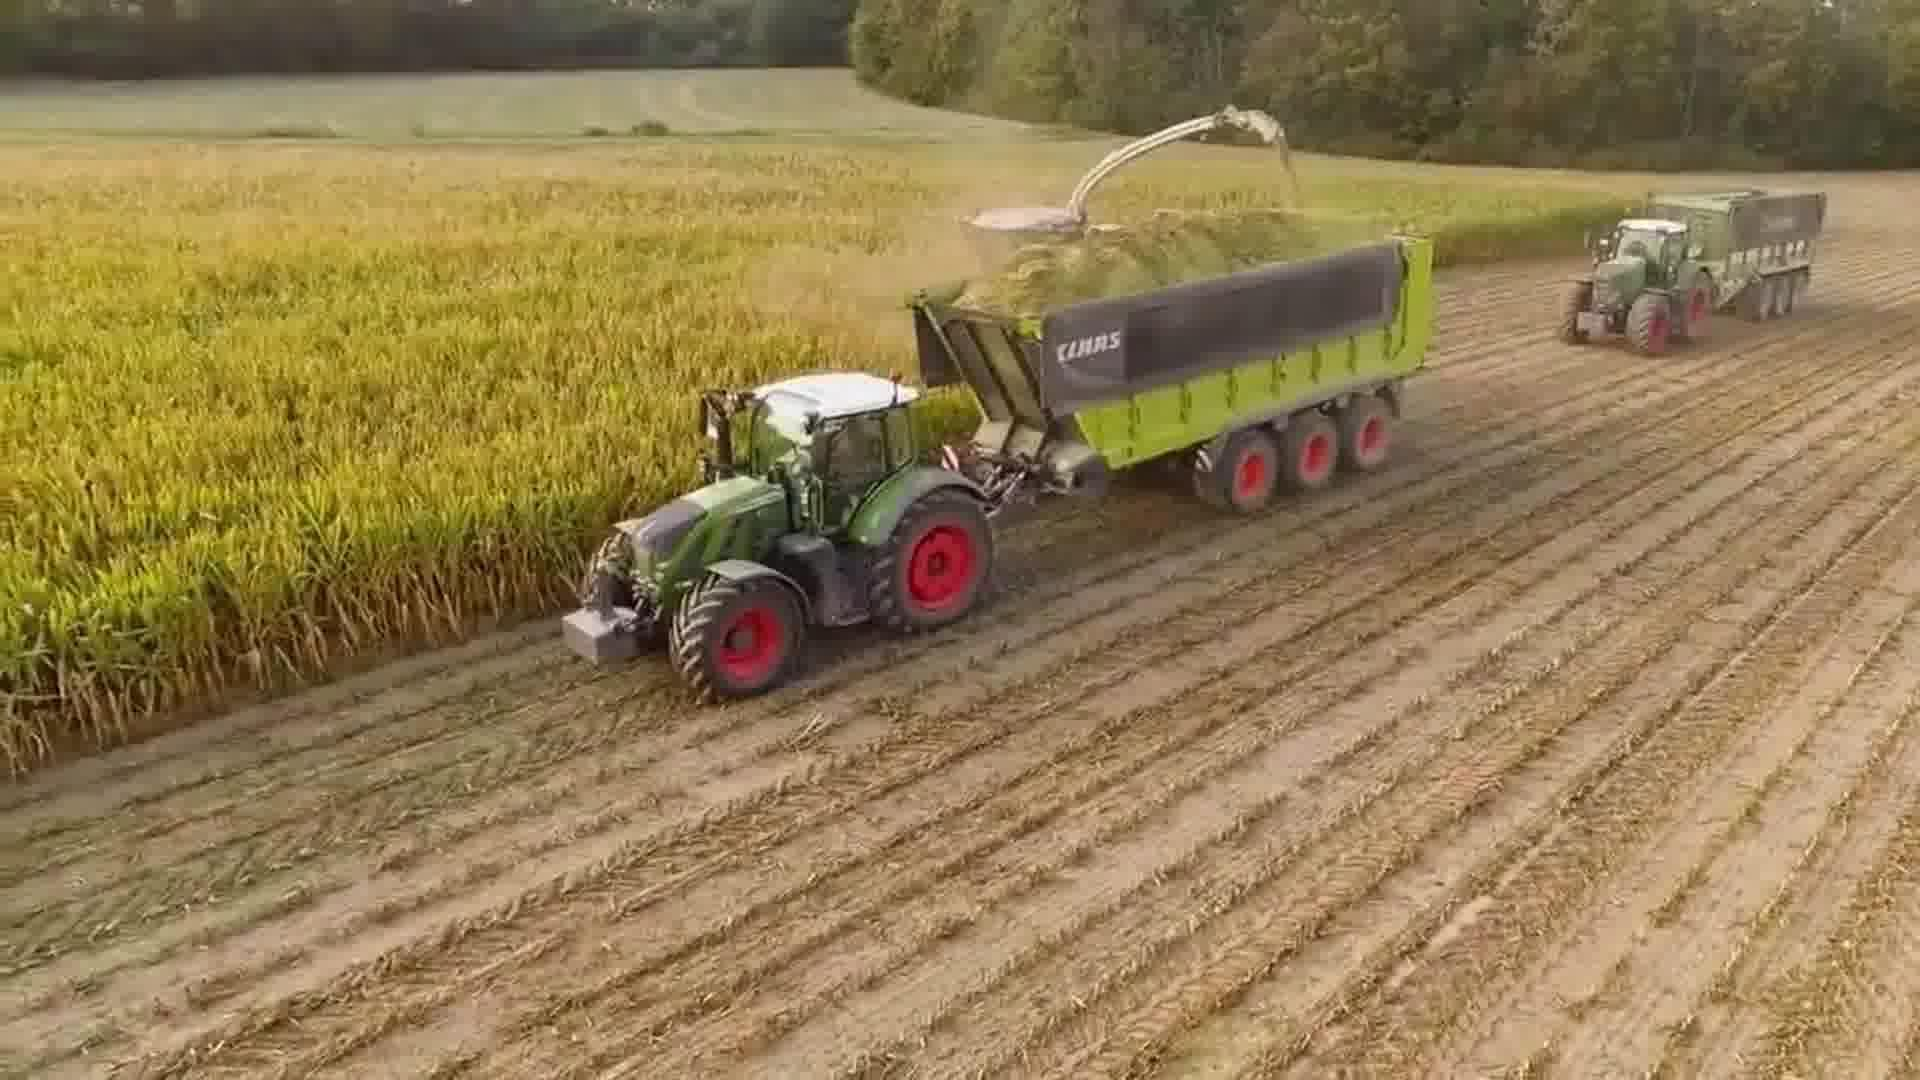combine harvester: (960, 94, 1290, 268)
tractor: (554, 359, 1001, 712), (1553, 212, 1717, 359)
trailer: (913, 202, 1445, 520), (1646, 169, 1836, 323)
